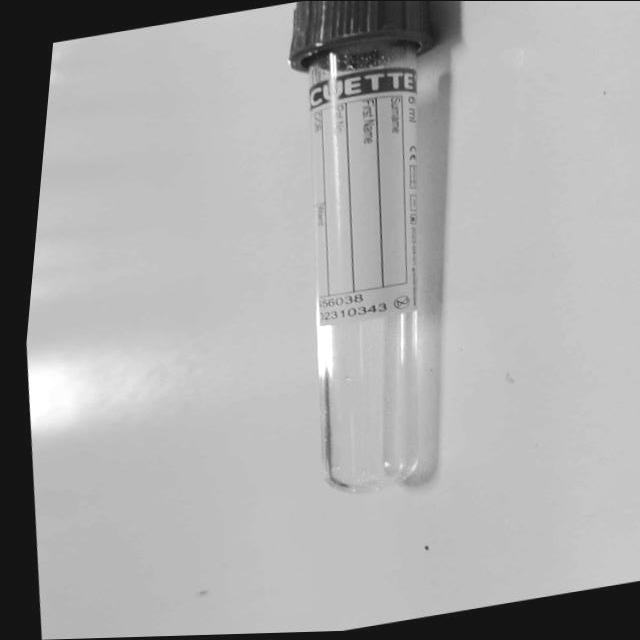Pathological: (24, 3, 637, 637)
Sharps: (286, 2, 440, 494)
